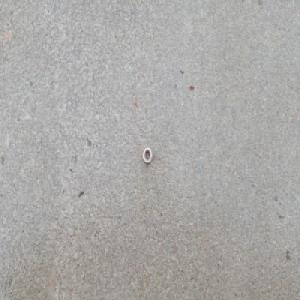Nut: (142, 146, 152, 164)
